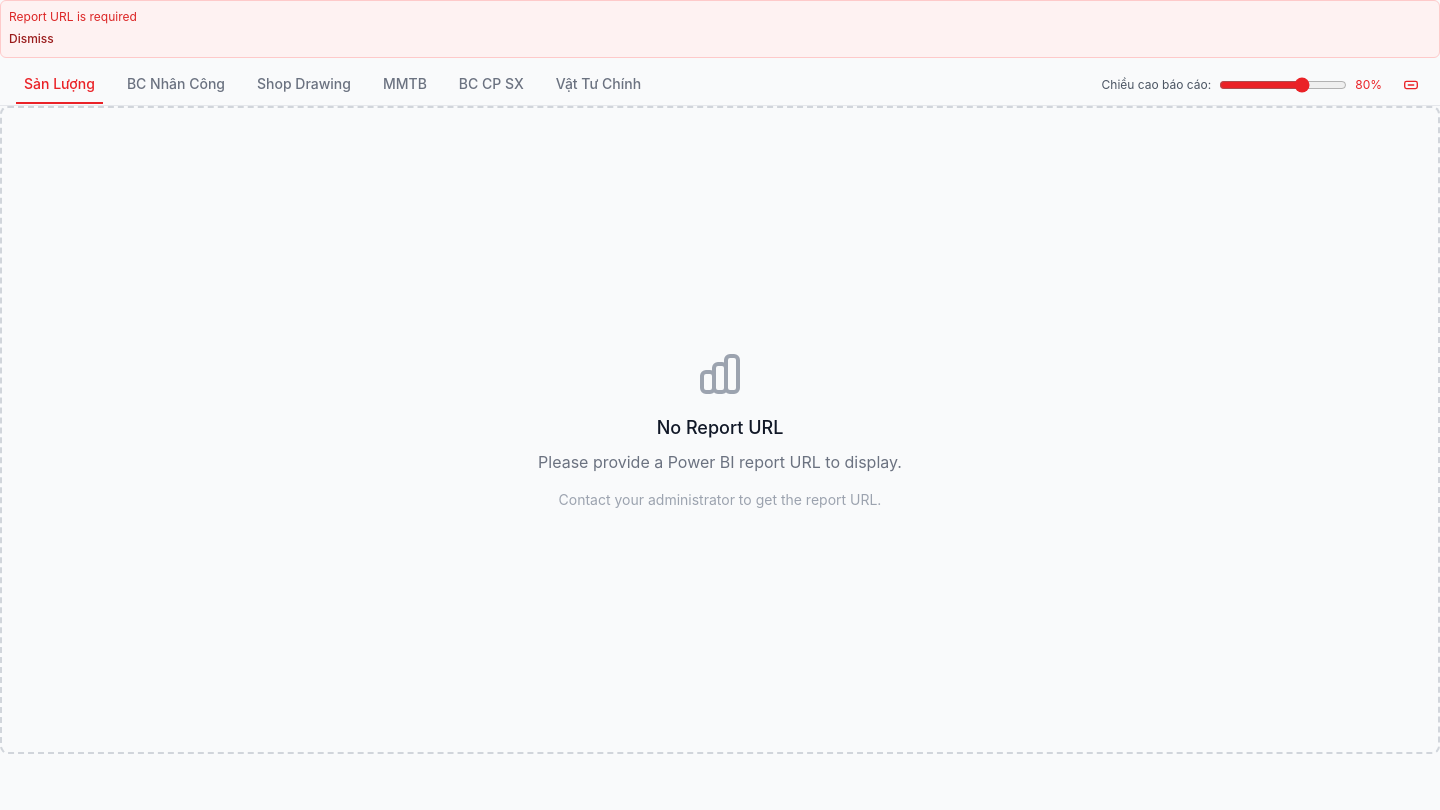
Test case: covers fit-to-page button
Click the button named "fit height to page" at (1411,84), box 1398,72 -> 1424,98
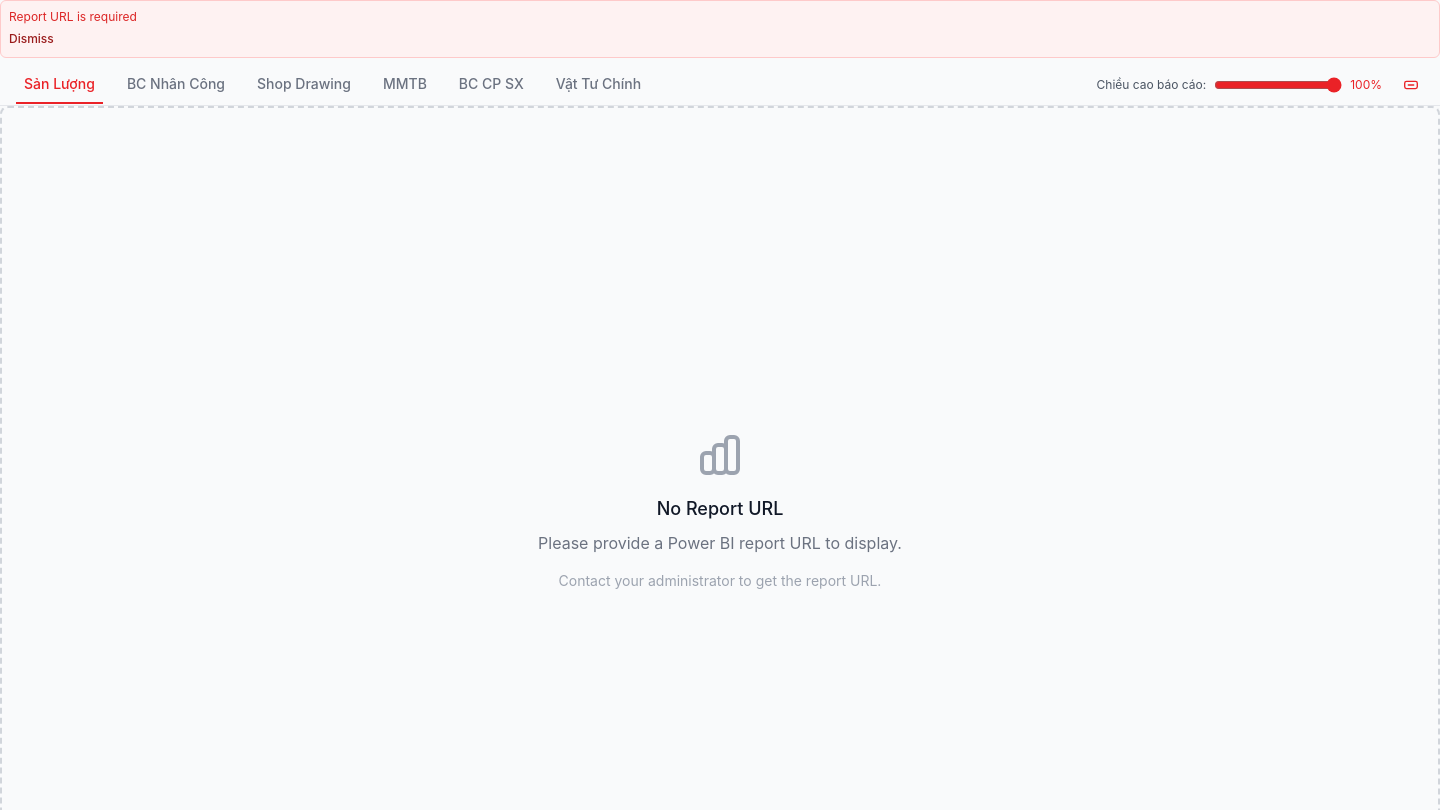
expect the text "100%" is shown: met, box 1350,76 -> 1382,92
